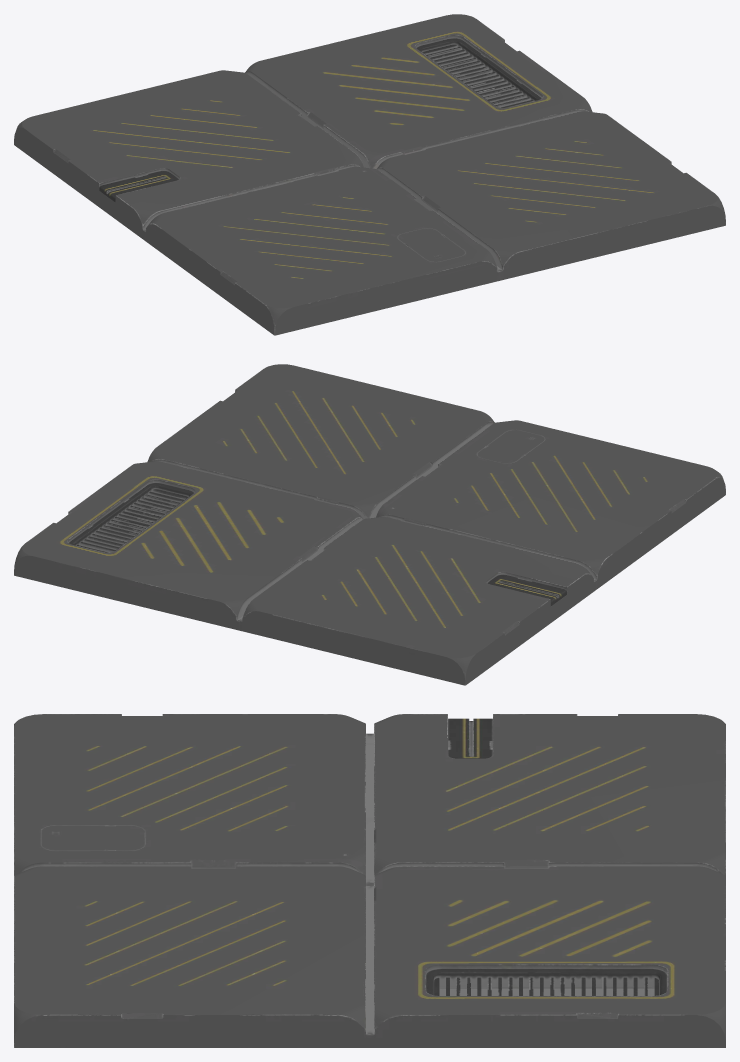
File: floor035-opt.glb
The picture shows the model from 3 angles, top to bottom: view 1: azimuth 30°, elevation 25°; view 2: azimuth 150°, elevation 25°; view 3: azimuth 270°, elevation 25°; orthographic projection. The views are drawn at different scales.
Visible parts, largest first — view 1: Cube.035; view 2: Cube.035; view 3: Cube.035.
Part boxes in pixels (x1=…): Cube.035: x1=14, y1=14, x2=725, y2=335; Cube.035: x1=14, y1=364, x2=725, y2=685; Cube.035: x1=14, y1=714, x2=725, y2=1047.
Size of the model in its own units: 3.15 by 0.1608 by 3.15.
1 material, 1 textured.
